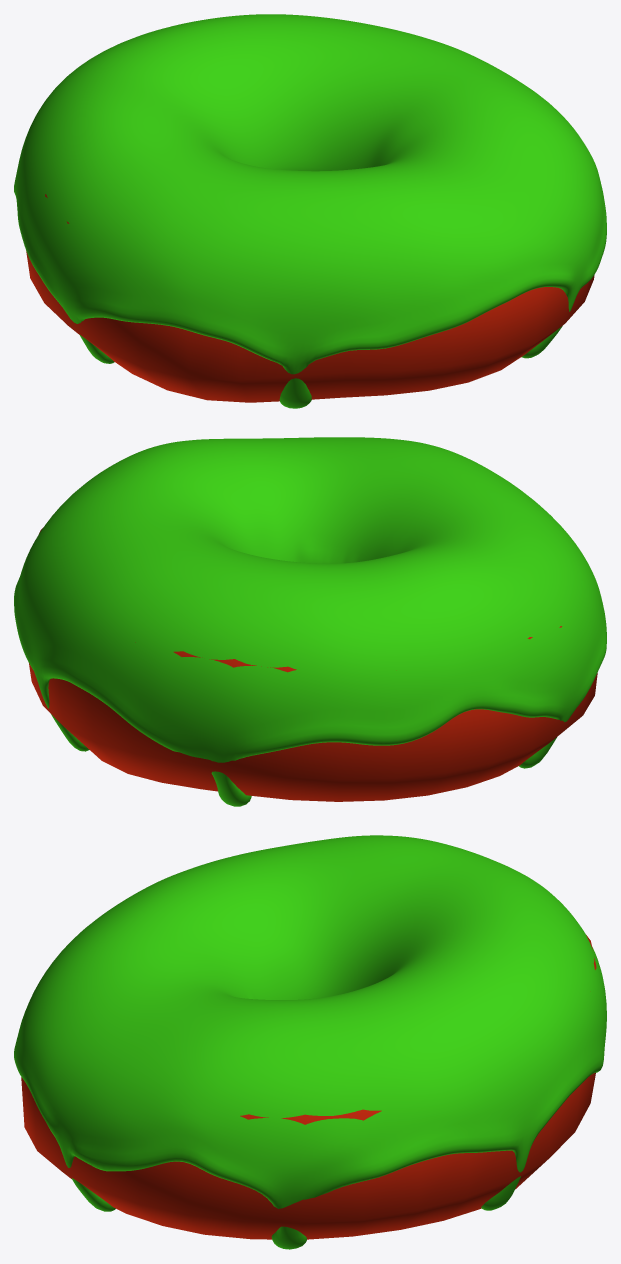
Rendered from donut-v56.obj.
3 renders of one model, top to bottom at view 1: azimuth 30°, elevation 25°; view 2: azimuth 150°, elevation 25°; view 3: azimuth 270°, elevation 25°, orthographic. The views are drawn at different scales.
Parts seen in each view (by area): view 1: Icing; view 2: Icing; view 3: Icing.
Part boxes in pixels (box(x1,y1,x2,y2)): Icing: box(14, 14, 606, 408); Icing: box(14, 437, 606, 806); Icing: box(14, 835, 606, 1249).
Size of the model in its own units: 1.29 by 0.565 by 1.28.
